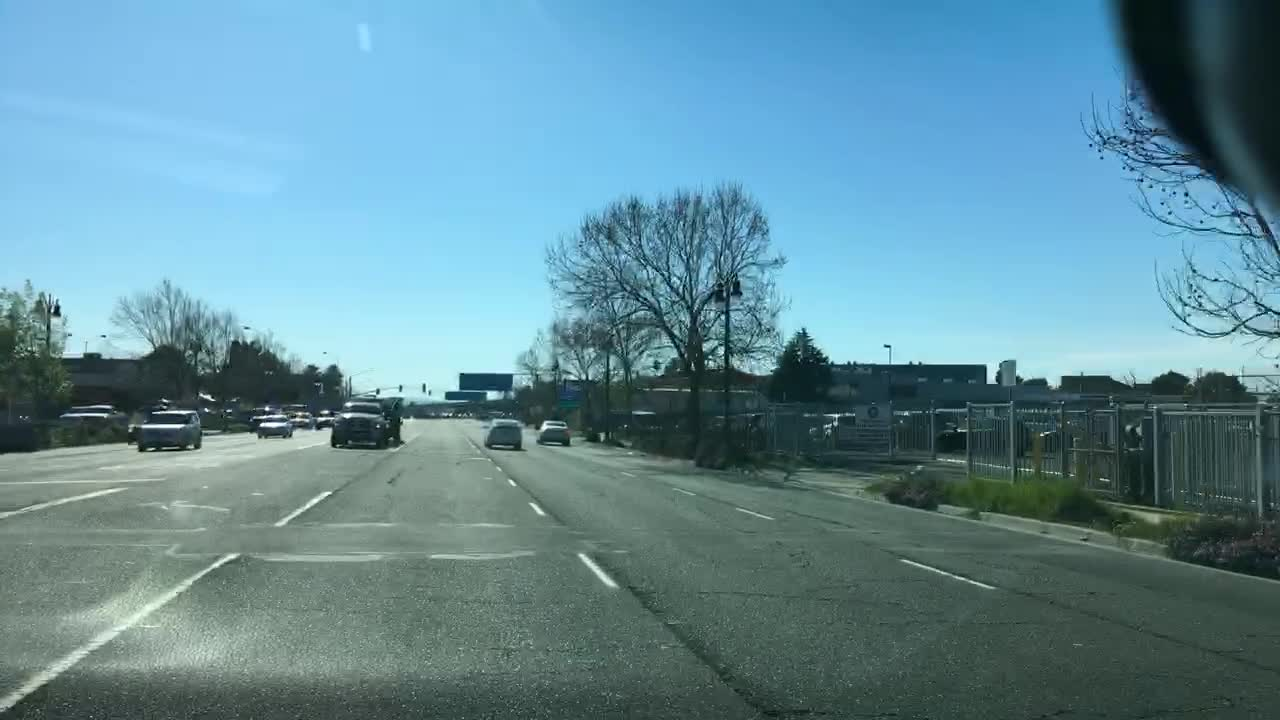car: (937, 414, 1025, 455), (134, 409, 204, 452), (331, 400, 388, 449), (734, 406, 798, 449), (802, 408, 863, 451), (1015, 416, 1069, 457), (888, 409, 940, 450), (480, 416, 526, 451), (530, 419, 571, 446), (383, 401, 405, 446), (257, 414, 293, 441), (87, 403, 129, 426), (248, 404, 279, 430), (57, 403, 86, 425), (289, 410, 314, 429), (315, 408, 336, 430), (197, 406, 218, 426), (220, 406, 237, 424)
traffic light: (396, 383, 403, 393), (421, 383, 426, 396)
traffic sign: (457, 371, 511, 393), (556, 379, 582, 409), (441, 391, 485, 403)
truck: (1035, 404, 1191, 450)
